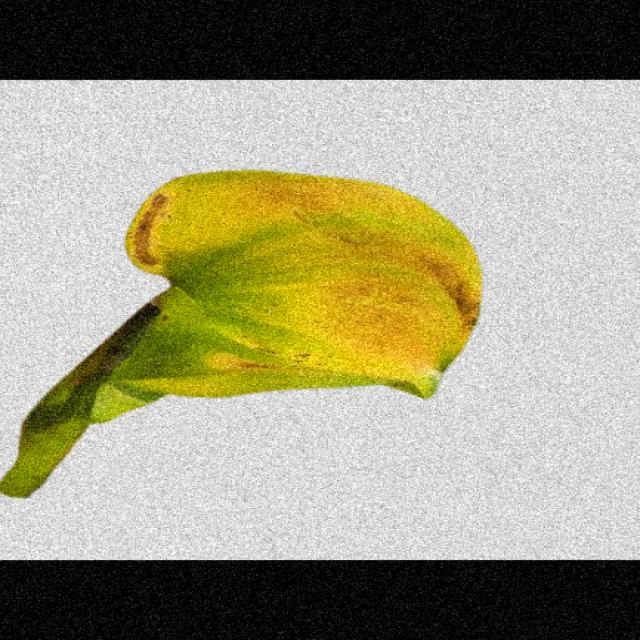daun berpenyakit kuning: (2, 171, 480, 497)
